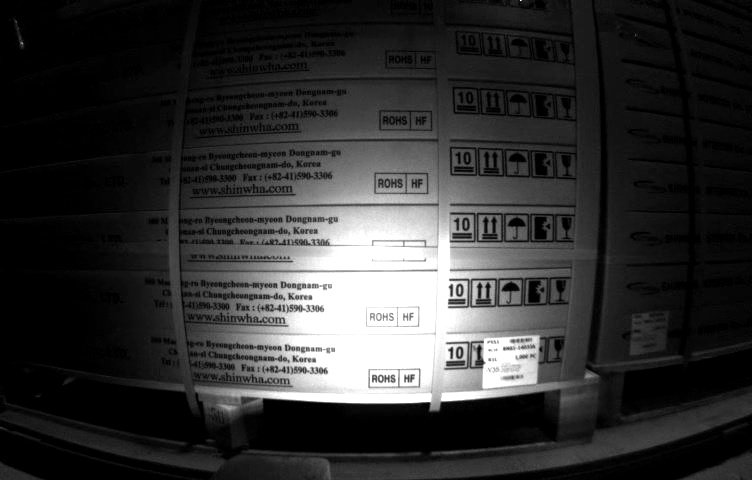True Barcode: (484, 336, 539, 387), (630, 311, 667, 353)
